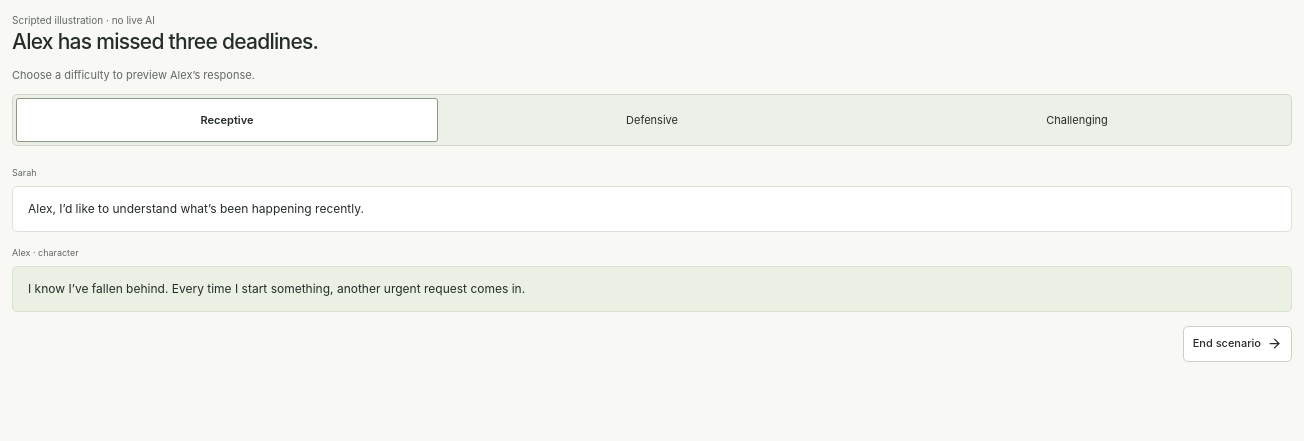
keeps character roleplay separate from evaluation, including difficulty changes
Expected: the text "Every time I start something" is shown, [28,281,525,296]
Expected: the button "View example feedback" is not shown
Click the button "Challenging": (1077, 120) [866,98,1288,142]
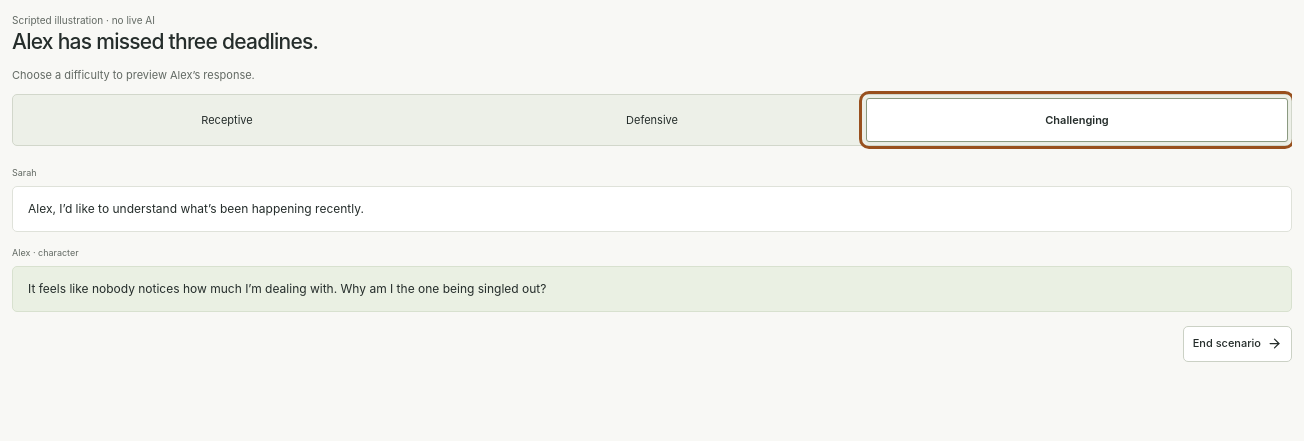
Expected: the text "Every time I start something" is gone
Expected: the text "nobody notices how much" is shown, [28,281,546,296]
Click the button "End scenario": (1237, 344) [1183,326,1292,362]
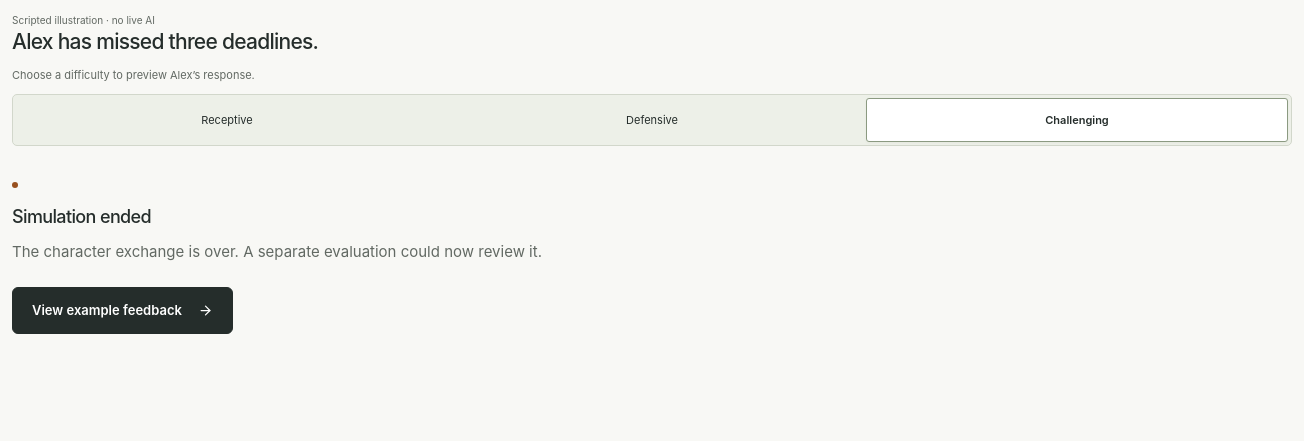
Expected: the text "One strength. One next step." is not shown
Expected: the heading "Simulation ended" is shown, [12,206,151,227]
Click the button "View example feedback": (122, 310) [12,287,233,334]
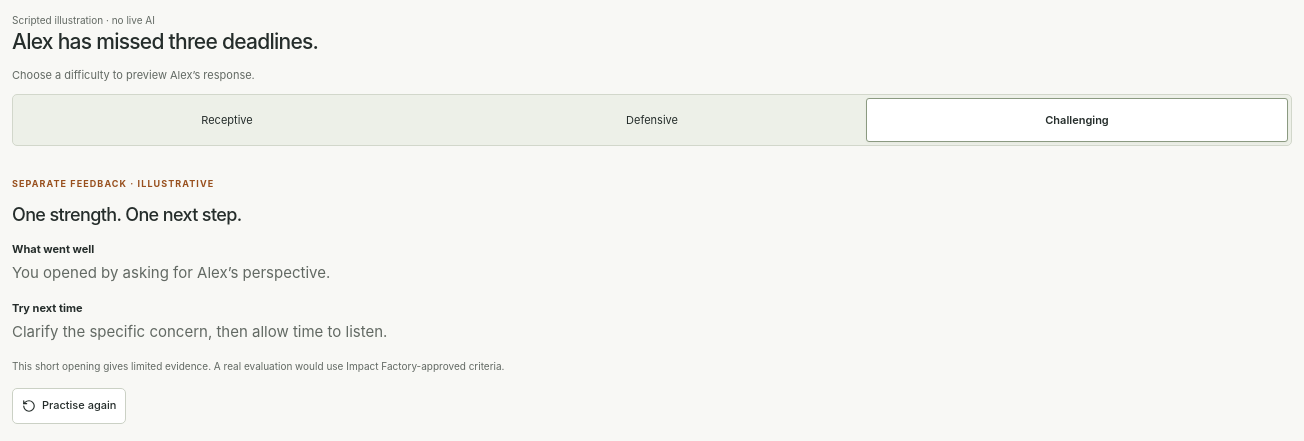
Expected: the heading "One strength. One next step." is shown, [12,204,242,225]
Expected: the text "This short opening gives limited evidence" is shown, [12,360,504,372]
Click the button "Practise again": (69, 406) [12,388,126,424]
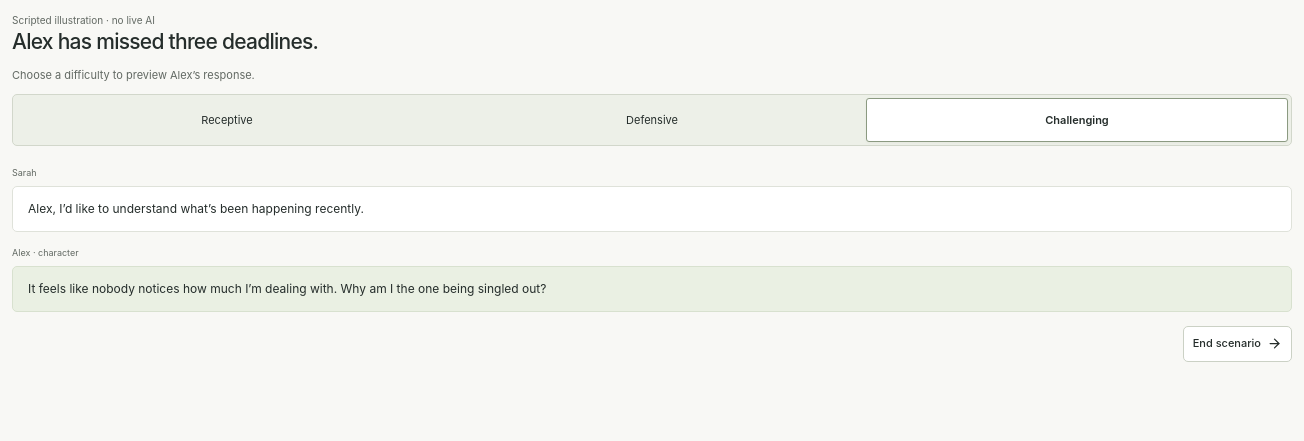
Expected: the heading "One strength. One next step." is gone
